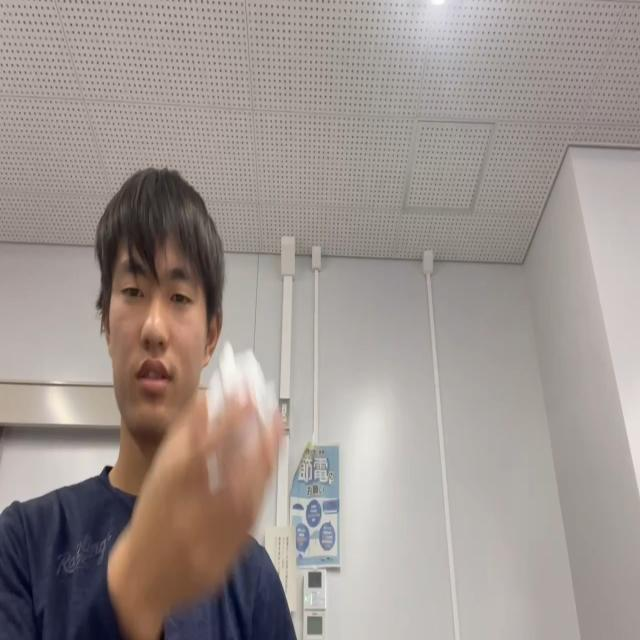paper: (204, 340, 278, 494)
